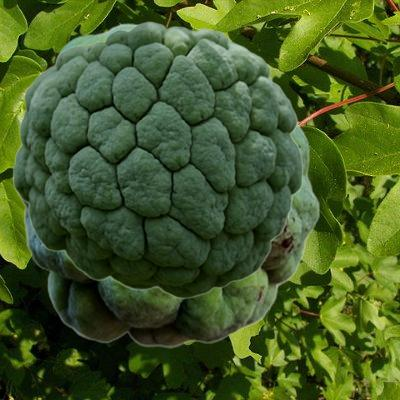atis: (13, 22, 319, 348), (12, 21, 302, 298)
